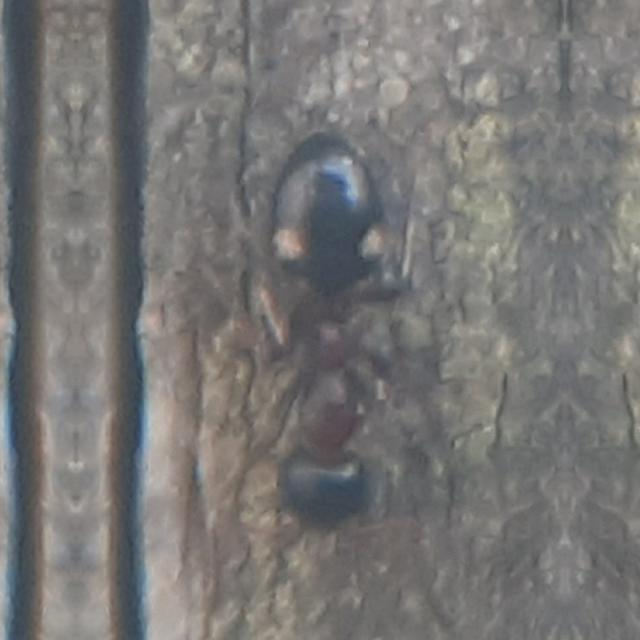Dolichoderus: (156, 48, 450, 588)
